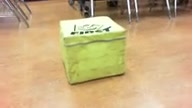cube: (59, 16, 126, 85)
